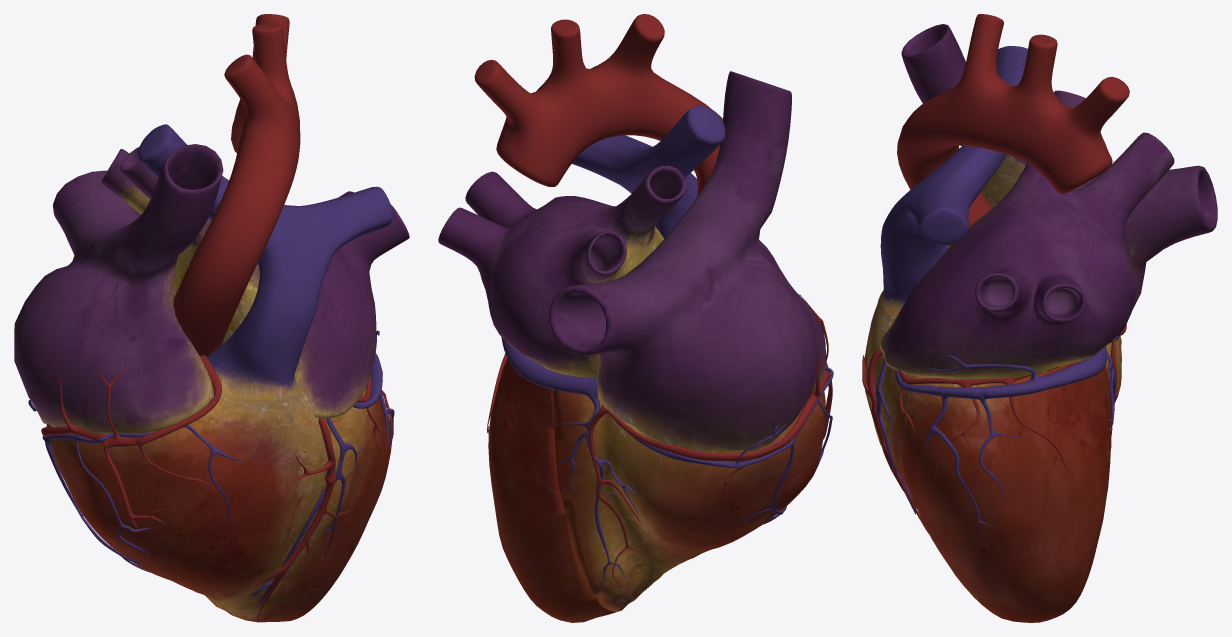
Rendered from heart.glb.
3 views of the same model, side by side, from view 1: azimuth 30°, elevation 25°; view 2: azimuth 150°, elevation 25°; view 3: azimuth 270°, elevation 25° (orthographic). The views are drawn at different scales.
Parts seen in each view (by area): view 1: right_atrium, right_ventricle, aorta, pulmonary_artery, left_atrium, left_ventricle, coronary_arteries, coronary_veins; view 2: right_atrium, right_ventricle, left_atrium, aorta, left_ventricle, pulmonary_artery, coronary_veins, coronary_arteries; view 3: left_ventricle, left_atrium, aorta, right_atrium, pulmonary_artery, coronary_veins, coronary_arteries, right_ventricle.
Boxes of the visible parts, x1=… form: right_atrium: x1=14, y1=144, x2=223, y2=434; right_ventricle: x1=46, y1=383, x2=331, y2=619; aorta: x1=173, y1=14, x2=300, y2=357; pulmonary_artery: x1=138, y1=124, x2=392, y2=399; left_atrium: x1=101, y1=146, x2=409, y2=418; left_ventricle: x1=232, y1=388, x2=392, y2=622; coronary_arteries: x1=41, y1=355, x2=392, y2=622; coronary_veins: x1=28, y1=330, x2=394, y2=607; right_atrium: x1=549, y1=71, x2=825, y2=452; right_ventricle: x1=552, y1=389, x2=825, y2=612; left_atrium: x1=438, y1=166, x2=686, y2=377; aorta: x1=474, y1=14, x2=722, y2=196; left_ventricle: x1=488, y1=358, x2=615, y2=622; pulmonary_artery: x1=572, y1=105, x2=725, y2=238; coronary_veins: x1=501, y1=337, x2=833, y2=595; coronary_arteries: x1=487, y1=294, x2=832, y2=593; left_ventricle: x1=881, y1=360, x2=1111, y2=622; left_atrium: x1=879, y1=90, x2=1174, y2=379; aorta: x1=897, y1=14, x2=1129, y2=246; right_atrium: x1=901, y1=24, x2=1217, y2=308; pulmonary_artery: x1=878, y1=46, x2=1027, y2=319; coronary_veins: x1=870, y1=324, x2=1119, y2=531; coronary_arteries: x1=862, y1=324, x2=1126, y2=534; right_ventricle: x1=864, y1=300, x2=1121, y2=445.
Bounding box in the file's own units: 10.33 × 16.25 × 8.99.
Materials: 5 (3 with a texture image).
